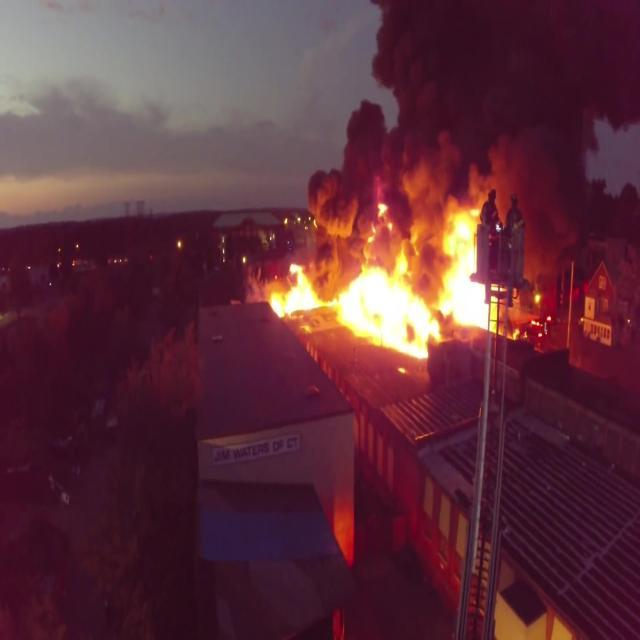Fire: (259, 209, 497, 355)
Smoke: (311, 0, 640, 270)
